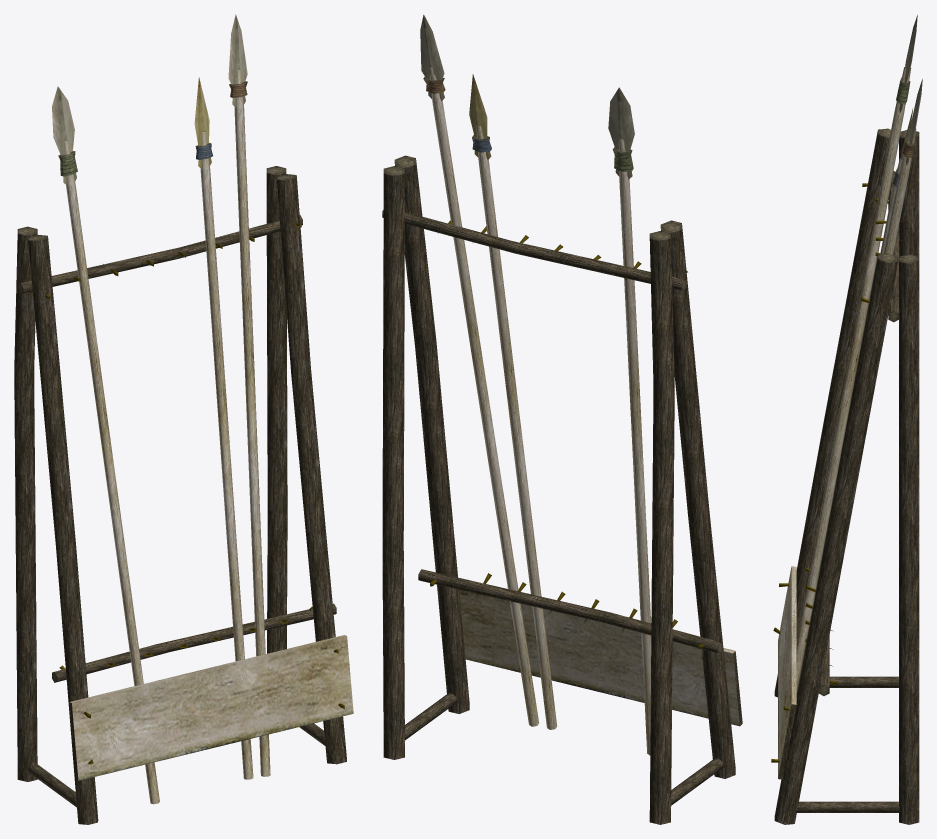
Rendered from thm_dant_rack_spears_l0.fbx.
3 renders of one model, left to right at view 1: azimuth 30°, elevation 25°; view 2: azimuth 150°, elevation 25°; view 3: azimuth 270°, elevation 25°, orthographic. The views are drawn at different scales.
Visible parts, largest first — view 1: mesh_node; view 2: mesh_node; view 3: mesh_node.
Part boxes in pixels (x1,y1,x2,y2): mesh_node: [14, 14, 353, 824]; mesh_node: [382, 14, 742, 824]; mesh_node: [771, 15, 922, 824].
Bounding box in the file's own units: 0.9659 × 2.34 × 0.4416.
